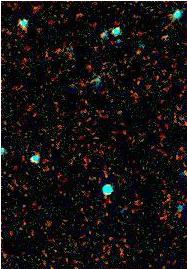star: (123, 35, 153, 65)
